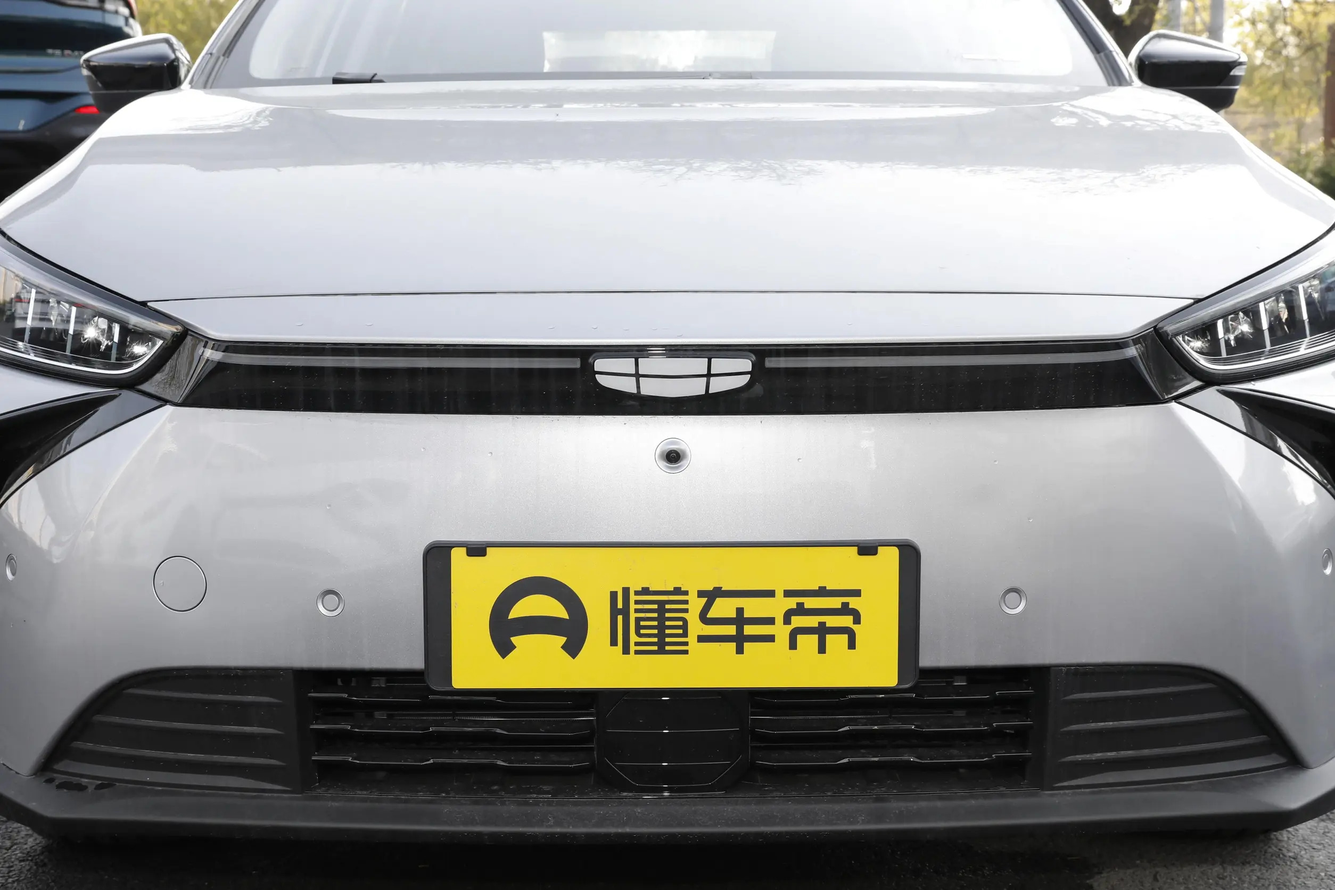GEOMETRY: (595, 358, 751, 397)
